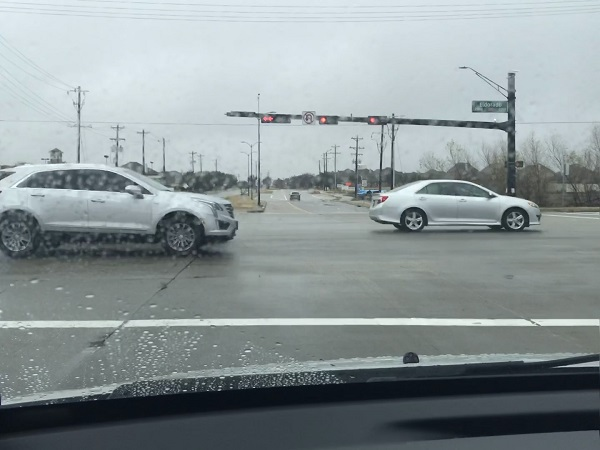car: (2, 164, 238, 257), (368, 180, 541, 235), (289, 191, 300, 200)
